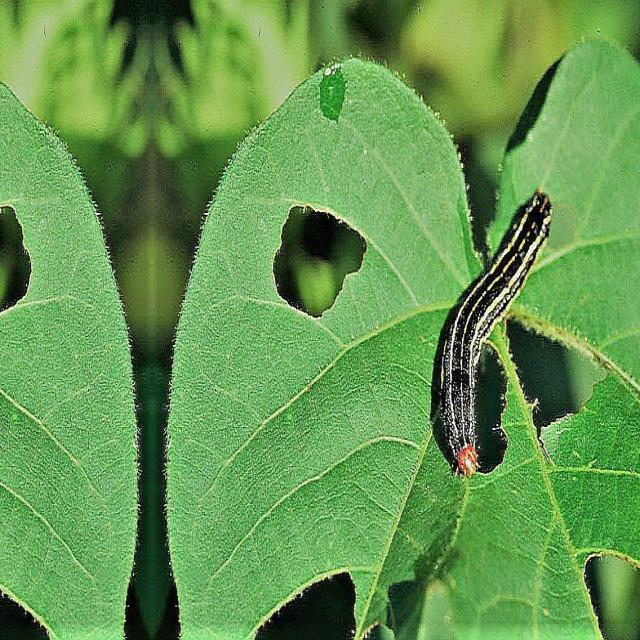Armyworm: (403, 151, 566, 477)
Armyworm_damage: (274, 191, 373, 334), (510, 297, 588, 442), (1, 186, 41, 344)
